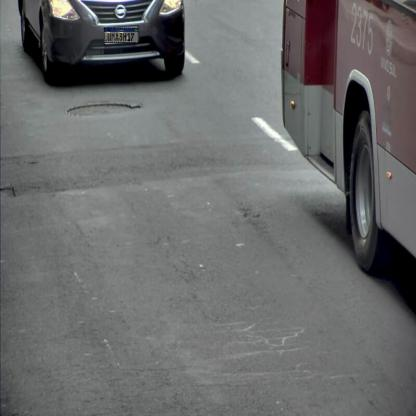PlacaM: (104, 28, 138, 43)
